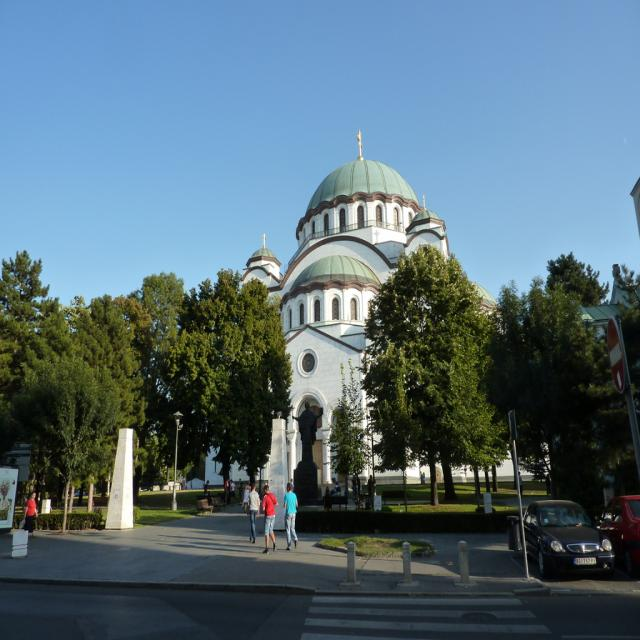car: (514, 499, 620, 586)
